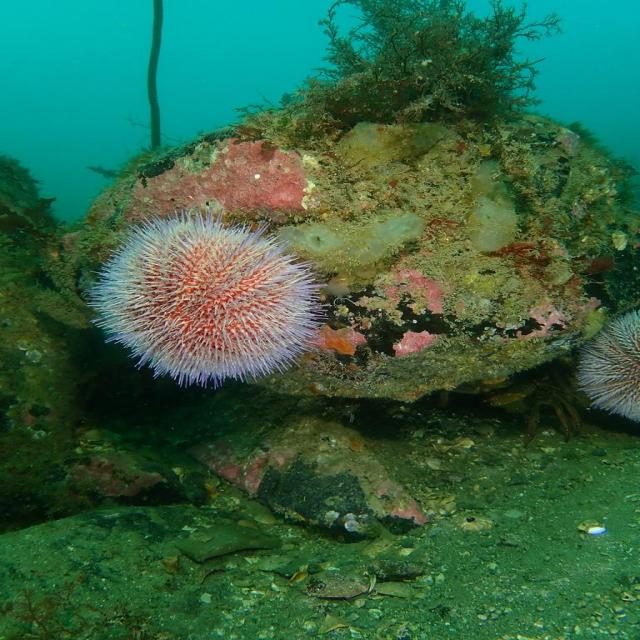Deniz Kestanesi: (83, 206, 330, 389), (572, 307, 640, 423)
